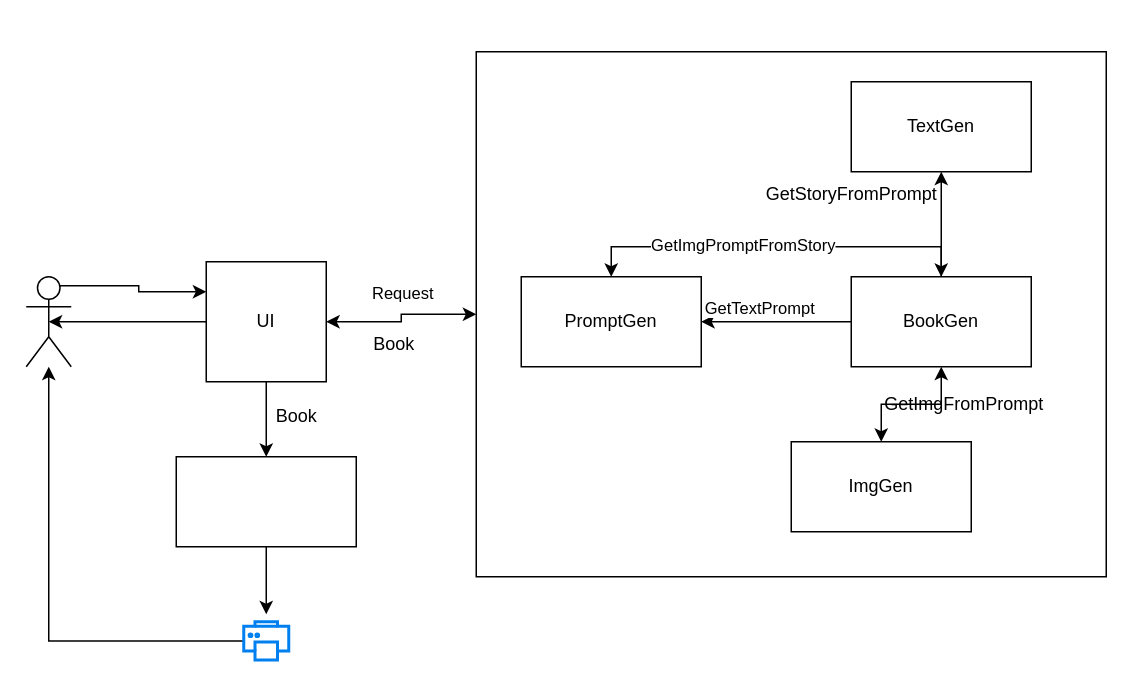
Some shapes in this 1133 by 687 pixel diagram are drawn without their labels. The shapes that lost their labels are listed below. From the top down, each one's box as (x1, y1, x2, y2) in pixels, then its label:
(25, 275, 71, 367): Actor
(475, 50, 1106, 577): BackEnd
(175, 455, 356, 547): Printer Service
